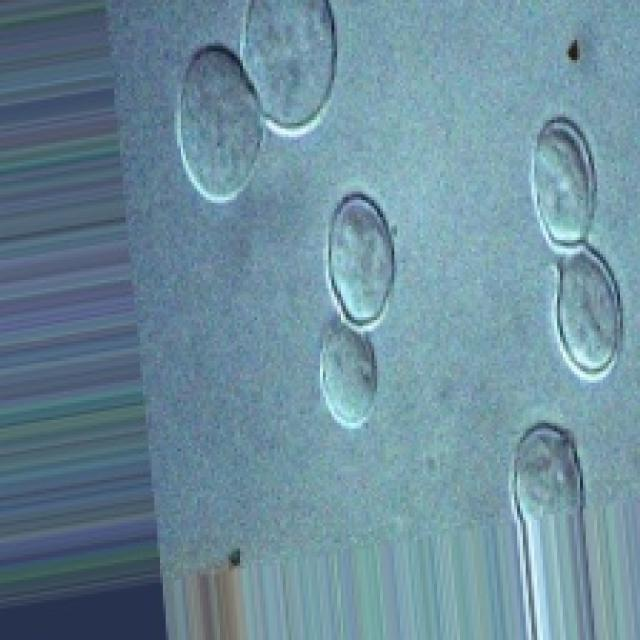Spherical_bacteria: (271, 183, 470, 445), (502, 100, 640, 383), (156, 0, 341, 207)
